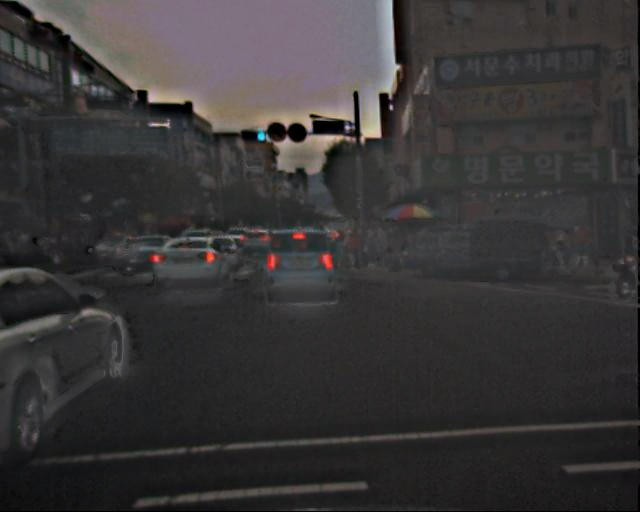person: (344, 224, 405, 270), (571, 222, 593, 275)
